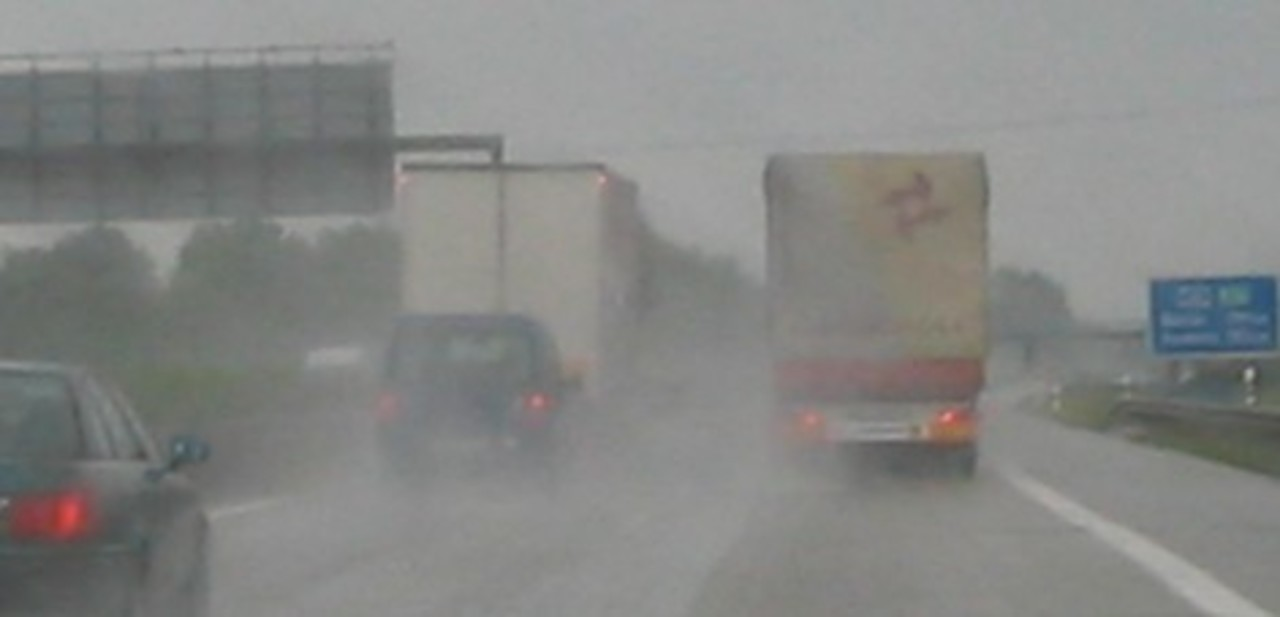car: (0, 358, 211, 614), (387, 317, 580, 479)
truck: (758, 147, 985, 481), (397, 159, 657, 423)
